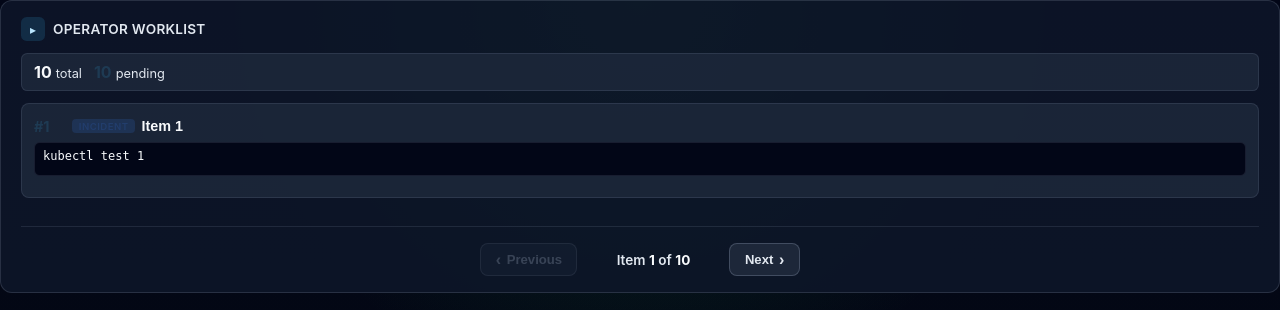
OperatorWorklistCard Pagination › 5. Previous button returns to first page showing backend rank #1
Navigate to page 2 first
Click the button with aria-label "worklist next page" at (765, 260), box [730,243,800,276]
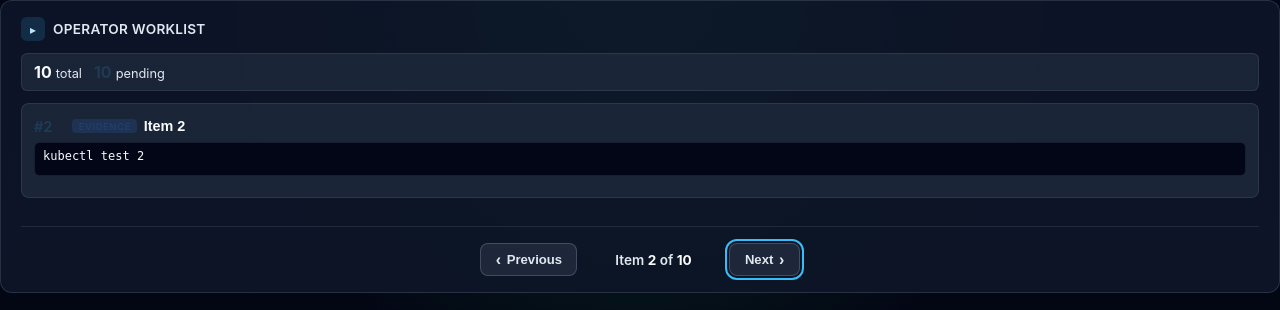
Click Previous button
Click the button with aria-label "worklist previous page" at (529, 260), box [480,243,578,276]
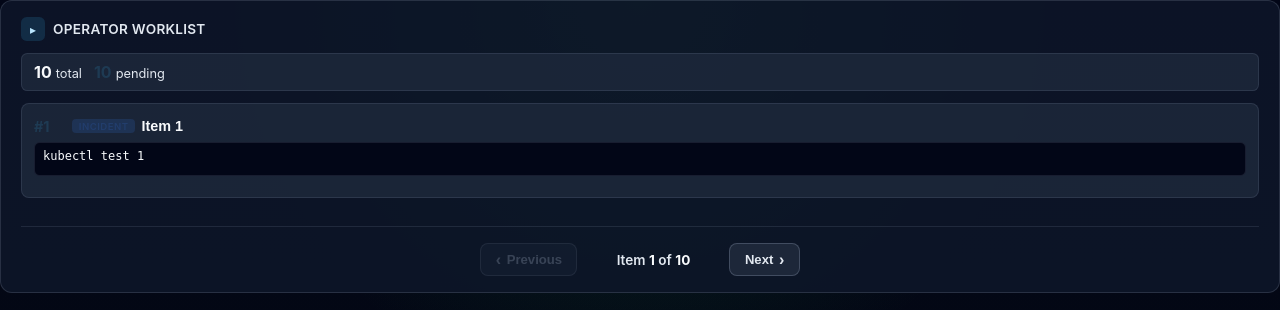
Check: the list item with test id "worklist-item-1" is shown, box [21,103,1259,198]
Check: the list item with test id "worklist-item-2" is gone
